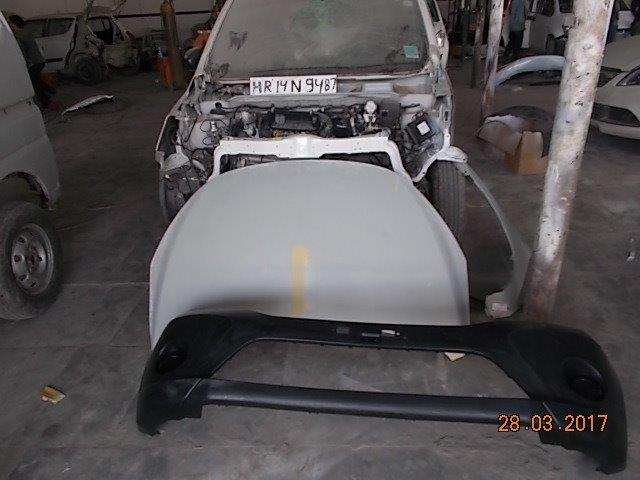Large_tear_or_damage: (143, 78, 474, 229)
